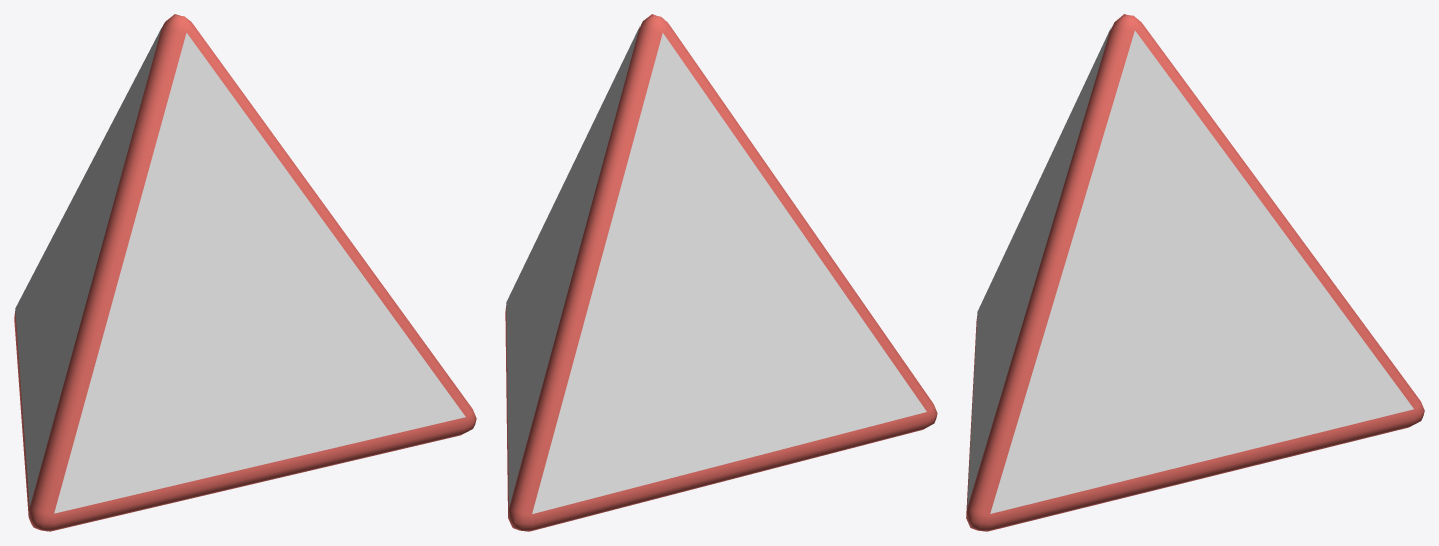
The model's file is dice4.fbx.
3 renders of one model, left to right at view 1: azimuth 30°, elevation 25°; view 2: azimuth 150°, elevation 25°; view 3: azimuth 270°, elevation 25°, orthographic.
Parts seen in each view (by area): view 1: Cube.002; view 2: Cube.002; view 3: Cube.002.
Boxes of the visible parts, bbox=[...] form: Cube.002: bbox=[14, 14, 476, 531]; Cube.002: bbox=[505, 14, 937, 531]; Cube.002: bbox=[966, 14, 1424, 531].
Size of the model in its own units: 211 by 194 by 193.
